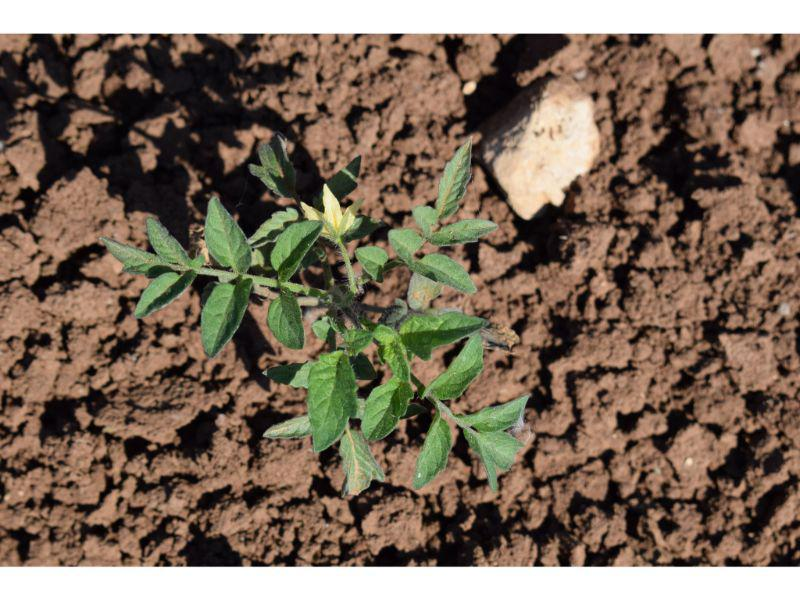tomato: (98, 140, 530, 493)
